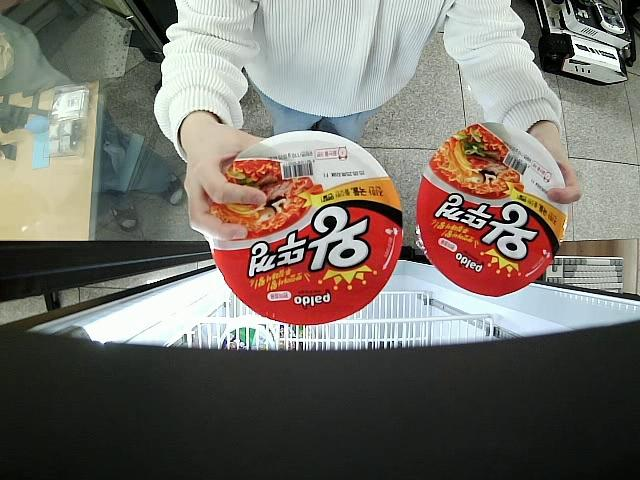00_hand: (184, 126, 269, 243), (530, 129, 584, 206)
10_wangTtukkeong: (210, 131, 404, 324), (416, 124, 569, 301)
